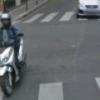motorcycles: (0, 29, 26, 96)
